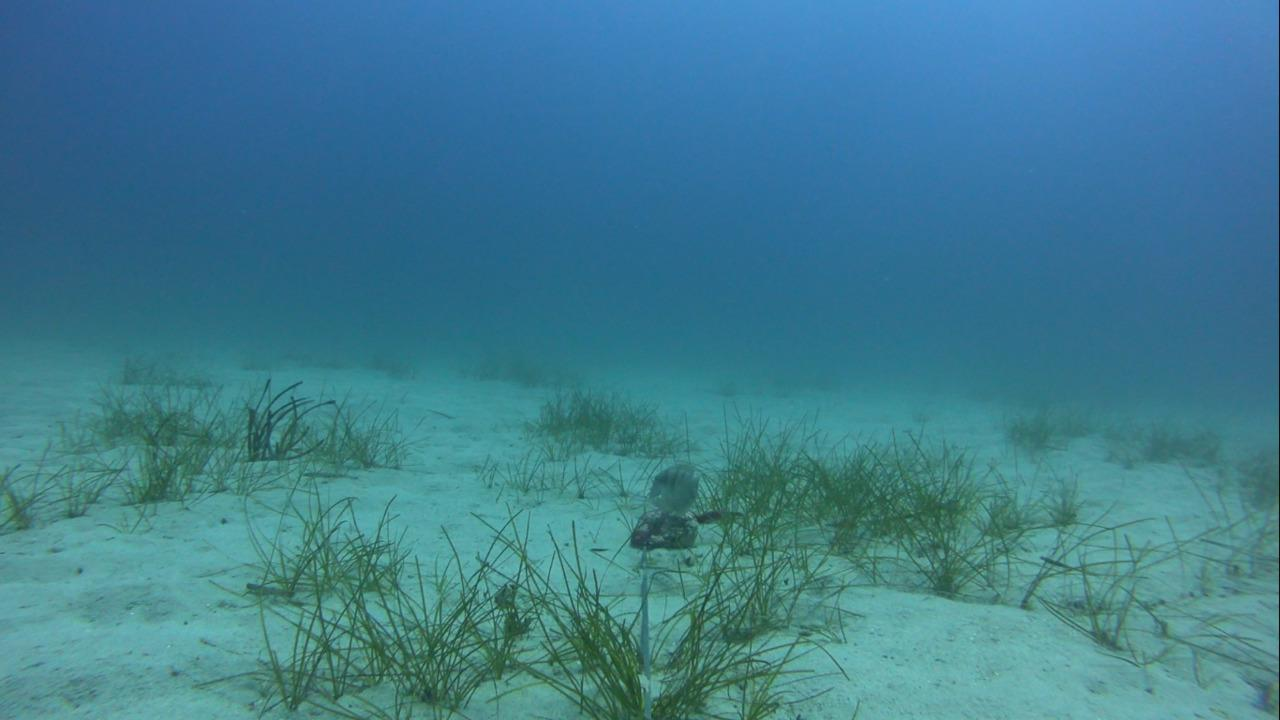raor: (637, 456, 708, 523)
